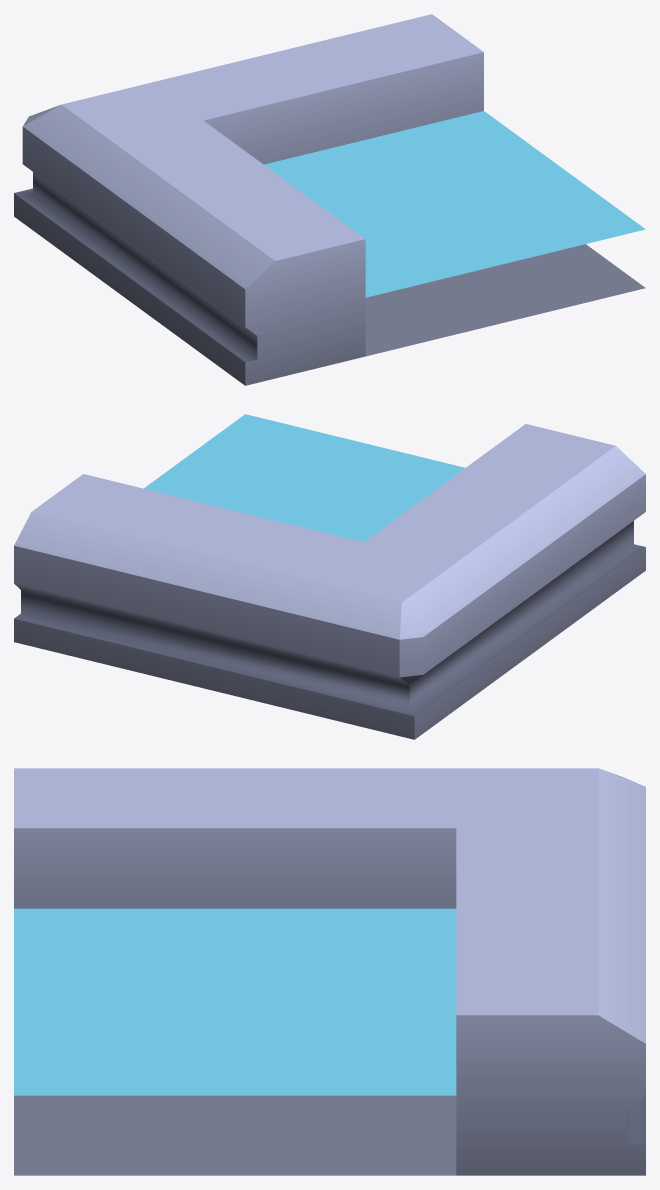
The model's file is fountain-corner.fbx.
The picture shows the model from 3 angles, top to bottom: view 1: azimuth 30°, elevation 25°; view 2: azimuth 150°, elevation 25°; view 3: azimuth 270°, elevation 25°; orthographic projection. The views are drawn at different scales.
Visible parts, largest first — view 1: fountain-corner, (%ignore); view 2: fountain-corner, (%ignore); view 3: fountain-corner, (%ignore).
Part boxes in pixels (bbox=[...]): fountain-corner: bbox=[14, 14, 645, 385]; (%ignore): bbox=[264, 111, 645, 297]; fountain-corner: bbox=[14, 424, 645, 739]; (%ignore): bbox=[144, 414, 465, 542]; fountain-corner: bbox=[14, 768, 645, 1175]; (%ignore): bbox=[14, 908, 456, 1095].
Size of the model in its own units: 100 by 28 by 100.
Materials: 2 (1 with a texture image).
